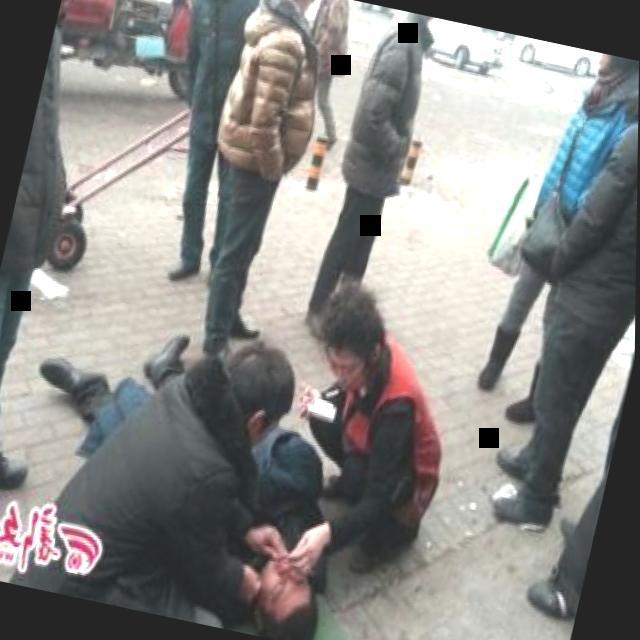Fall-Detected: (0, 288, 347, 633)
